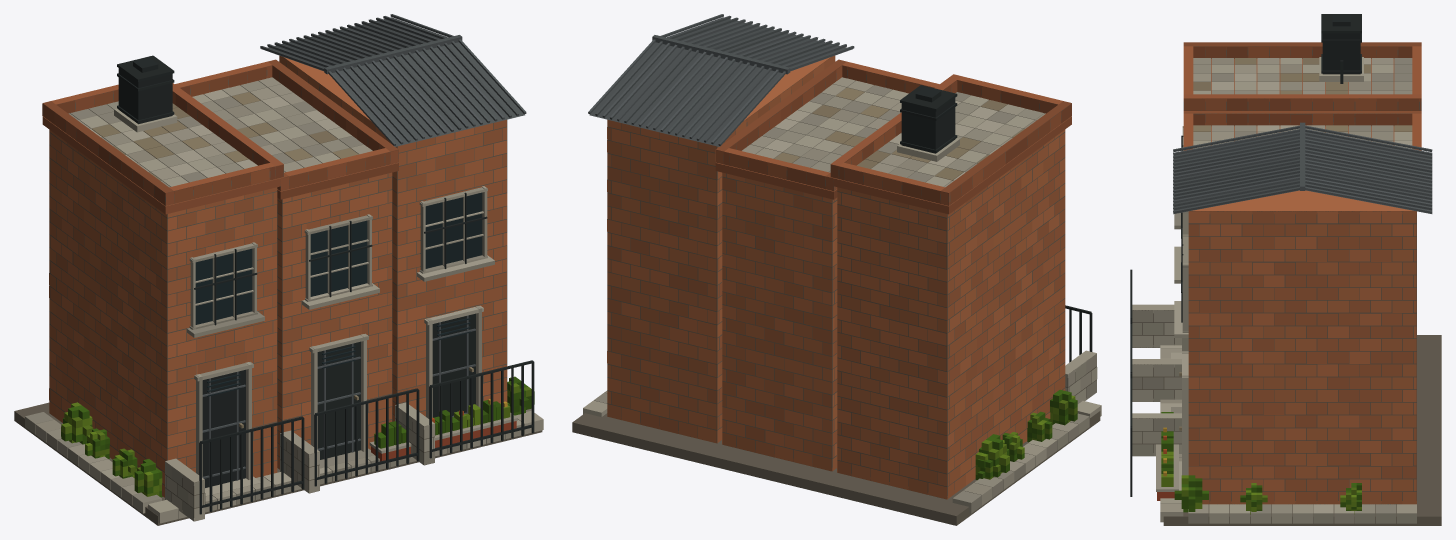
Rendered from SM_Mapa_074.fbx.
The picture shows the model from 3 angles, left to right: view 1: azimuth 30°, elevation 25°; view 2: azimuth 150°, elevation 25°; view 3: azimuth 270°, elevation 25°; orthographic projection. The views are drawn at different scales.
Parts seen in each view (by area): view 1: SM_Mapa_074; view 2: SM_Mapa_074; view 3: SM_Mapa_074.
Boxes of the visible parts, left/top/right/bottom form: SM_Mapa_074: left=14, top=14, right=543, bottom=525; SM_Mapa_074: left=572, top=14, right=1101, bottom=525; SM_Mapa_074: left=1130, top=14, right=1441, bottom=525.
Bounding box in the file's own units: 8 × 5.69 × 7.34.
